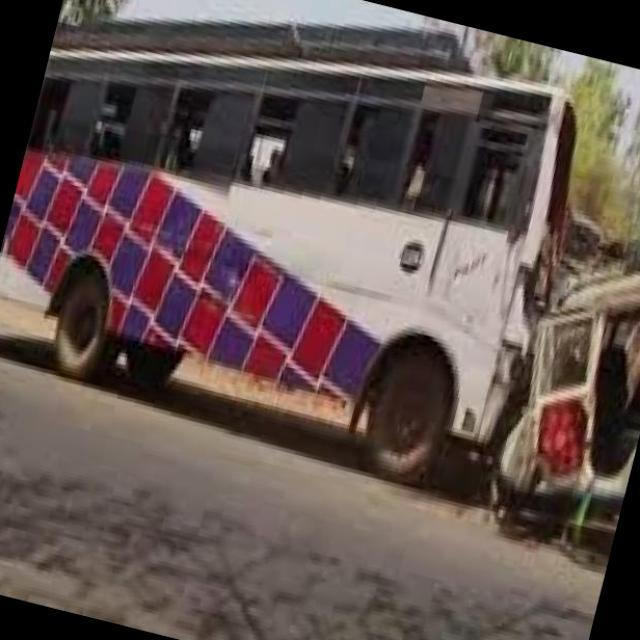accident: (381, 33, 640, 560)
